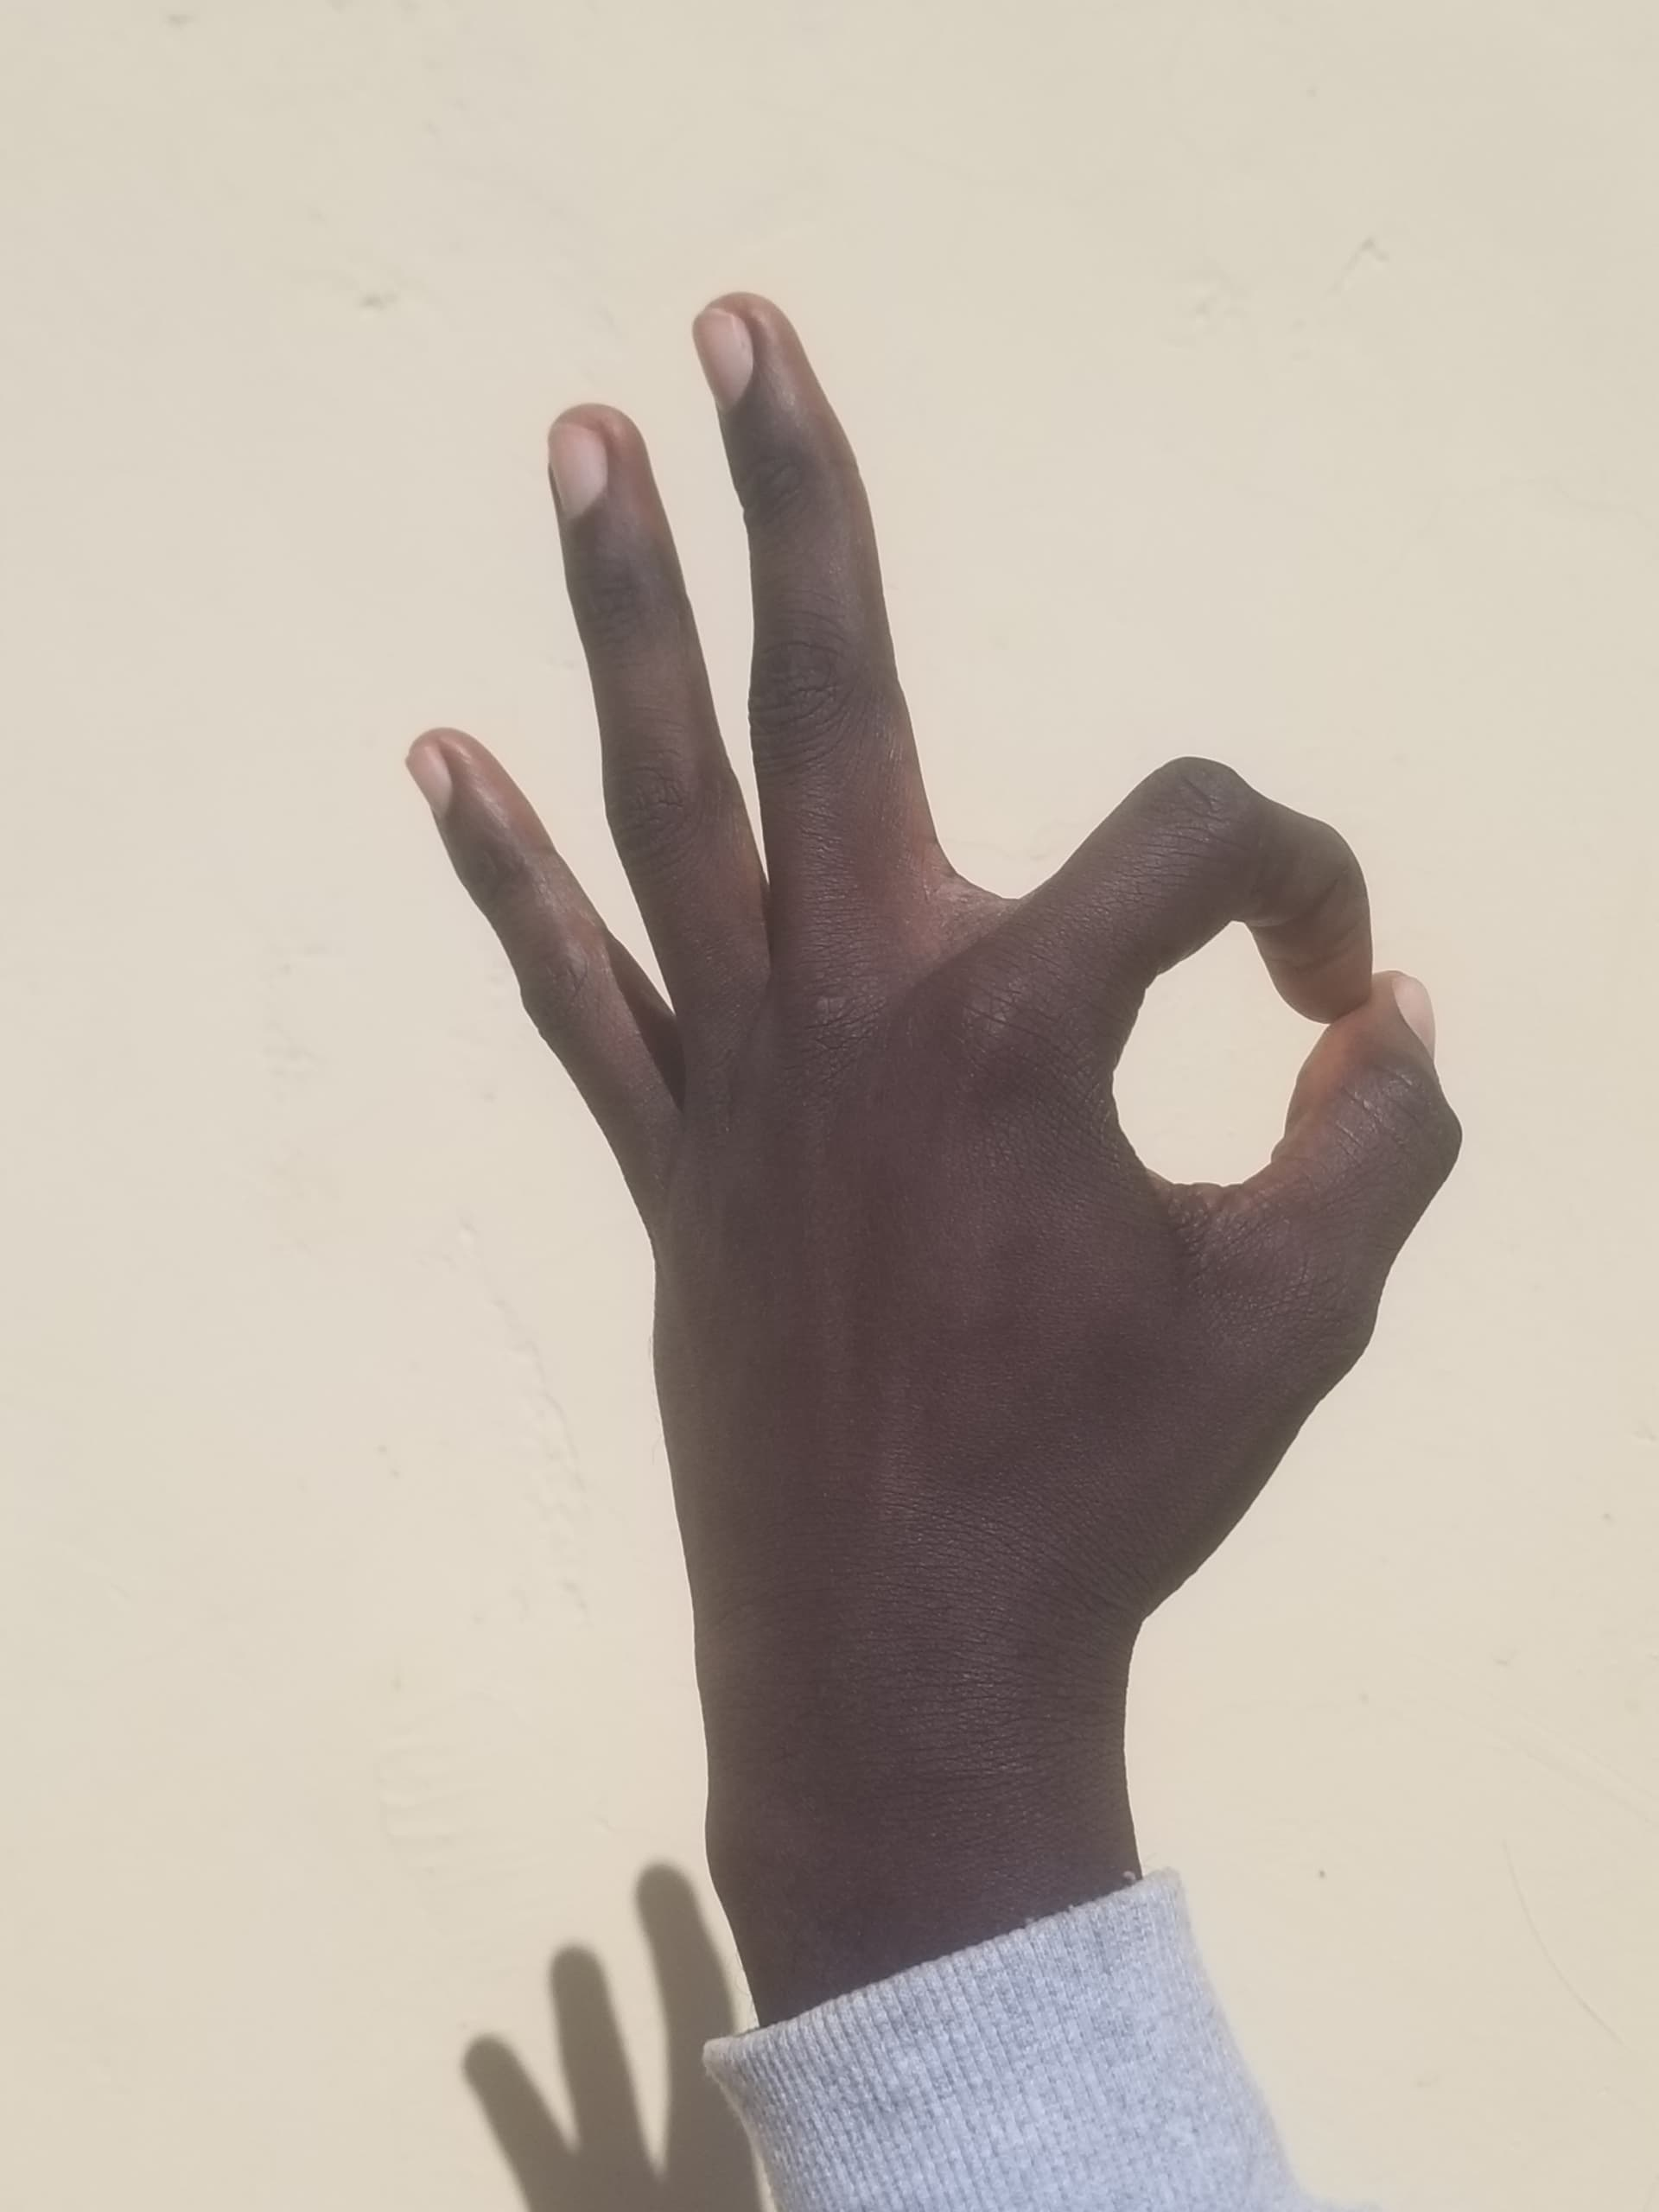okay: (284, 244, 1542, 2043)
